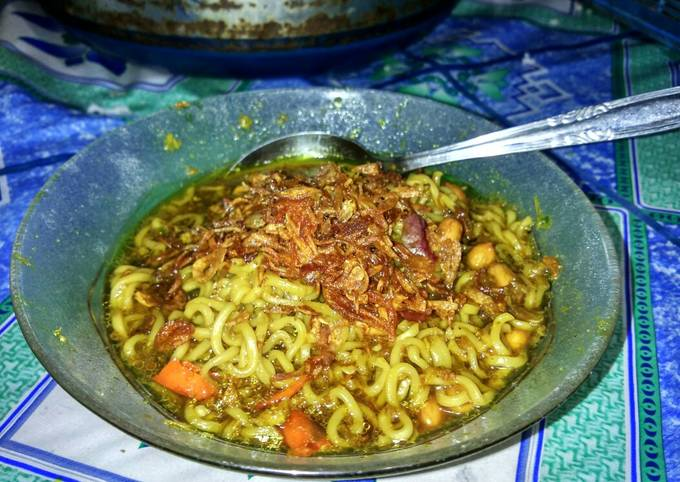Mie: (69, 138, 563, 470)
